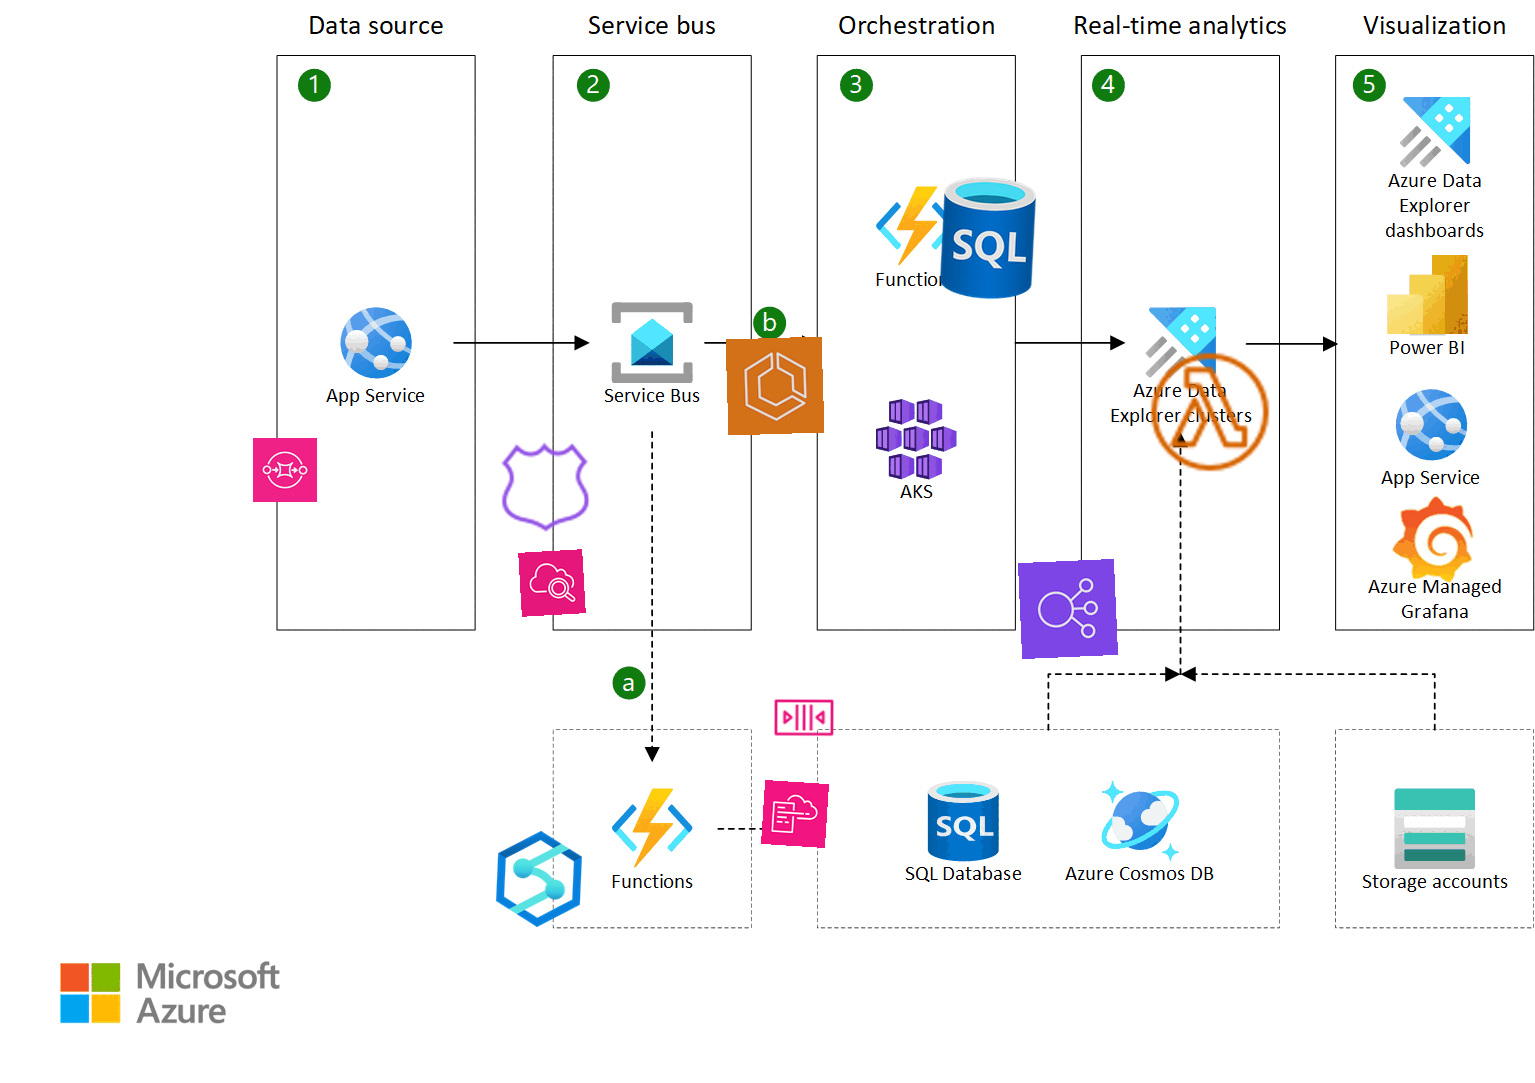aws_amazon_cloudwatch: (518, 549, 586, 617)
aws_amazon_elastic_container_service: (725, 336, 825, 436)
aws_amazon_simple_queue_service: (252, 437, 318, 503)
aws_cloudformation: (760, 779, 828, 849)
aws_elastic_load_balancing: (1017, 558, 1119, 660)
aws_lambda_lambda_function: (1145, 347, 1275, 477)
aws_route_53_hosted_zone: (497, 438, 595, 536)
aws_simple_queue_service_queue: (771, 684, 837, 750)
azure_sql_database: (920, 170, 1056, 306)
azure_synapse_analytics: (487, 827, 591, 929)
